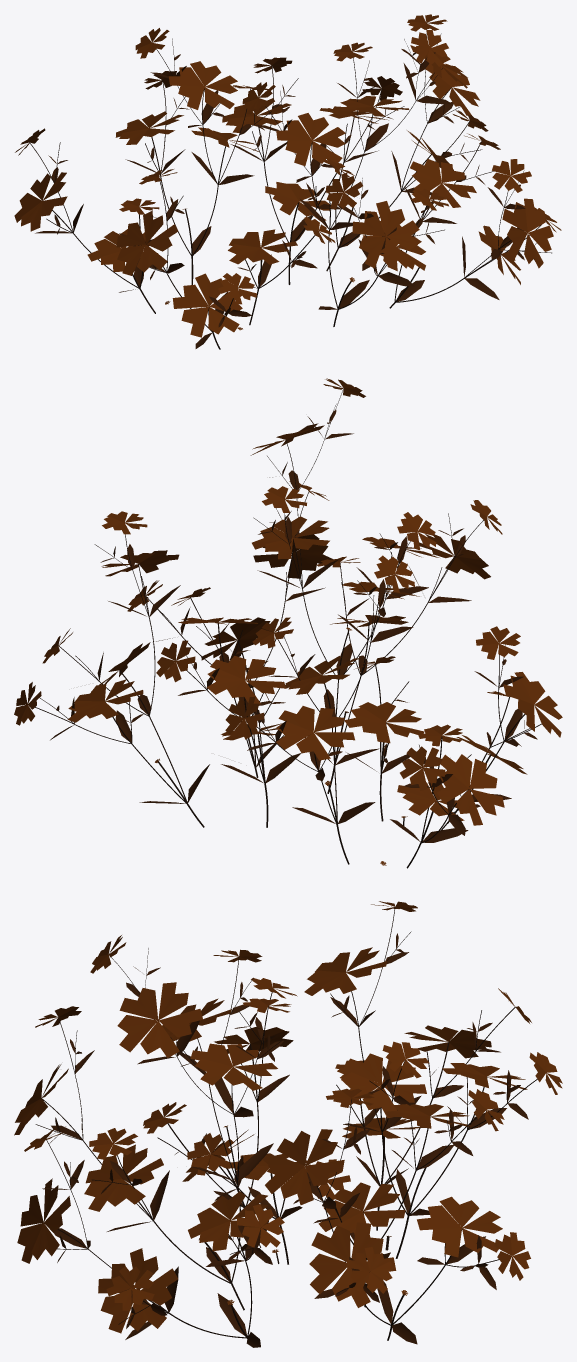
The model's file is LandCover_B_01.FBX.
3 renders of one model, top to bottom at view 1: azimuth 30°, elevation 25°; view 2: azimuth 150°, elevation 25°; view 3: azimuth 270°, elevation 25°, orthographic. The views are drawn at different scales.
Visible parts, largest first — view 1: PT024-01; view 2: PT024-01; view 3: PT024-01.
Part boxes in pixels (x1,y1,x2,y2): PT024-01: (14, 14, 561, 349); PT024-01: (14, 378, 562, 868); PT024-01: (14, 901, 562, 1347).
Size of the model in its own units: 318 by 228 by 285.
